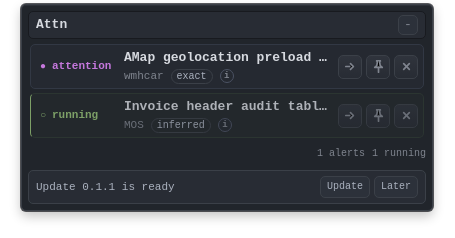
Scenario: StatusPanelView › shows that an installed update could not restart Attn
The width and height of the screenshot is (455, 238).
Step 1. Click the button with aria-label "Download 0.1.1 and restart Attn" → [345, 187], box [320, 176, 370, 198]
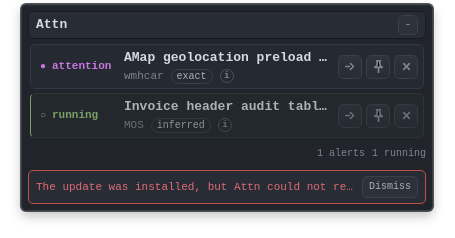
Result: the text "The update was installed, but Attn could not restart." is shown at [36, 180, 356, 194]
